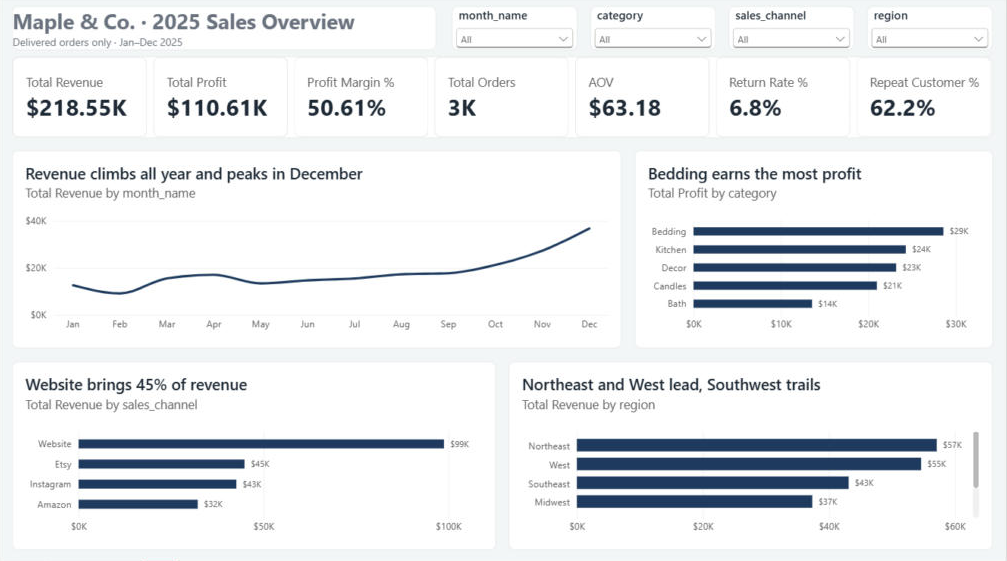

What the dashboard file says about the page in this screenshot:
{"tool":"powerbi","page":{"name":"Overview","canvas":[1280,720],"ordinal":0},"visuals":[{"type":"cardVisual","fields":{"Data":["orders_cleaned.Total Revenue","orders_cleaned.Total Profit","orders_cleaned.Profit Margin %","orders_cleaned.Total Orders","orders_cleaned.AOV","orders_cleaned.Return Rate %","orders_cleaned.Repeat Customer %"]},"box":[16,76,1248,104],"z":0},{"type":"textbox","box":[16,12,540,56],"z":1},{"type":"lineChart","title":"Revenue climbs all year and peaks in December","fields":{"Category":["orders_cleaned.month_name"],"Y":["orders_cleaned.Total Revenue"]},"box":[16,196,776,252],"z":2},{"type":"clusteredBarChart","title":"Bedding earns the most profit","fields":{"Category":["orders_cleaned.category"],"Y":["orders_cleaned.Total Profit"]},"box":[808,196,456,252],"z":3},{"type":"clusteredBarChart","title":"Website brings 45% of revenue","fields":{"Category":["orders_cleaned.sales_channel"],"Y":["orders_cleaned.Total Revenue"]},"box":[16,464,616,240],"z":4},{"type":"clusteredBarChart","title":"Northeast and West lead, Southwest trails","fields":{"Category":["orders_cleaned.region"],"Y":["orders_cleaned.Total Revenue"]},"box":[648,464,616,240],"z":5},{"type":"slicer","fields":{"Values":["orders_cleaned.month_name"]},"box":[576,12,160,56],"z":6},{"type":"slicer","fields":{"Values":["orders_cleaned.category"]},"box":[752,12,160,56],"z":7},{"type":"slicer","fields":{"Values":["orders_cleaned.region"]},"box":[1104,12,160,56],"z":8},{"type":"slicer","fields":{"Values":["orders_cleaned.sales_channel"]},"box":[928,12,160,56],"z":9}]}

Visuals, with their boxes in screenshot pixels (x1, y1, x2, y2), scaled from the page's 1280x720 canvas onto the 1007x561 screenshot:
cardVisual - orders_cleaned.Total Revenue x orders_cleaned.Total Profit: <bbox>13, 59, 994, 140</bbox>
textbox: <bbox>13, 9, 437, 53</bbox>
"Revenue climbs all year and peaks in December" lineChart: <bbox>13, 153, 623, 349</bbox>
"Bedding earns the most profit" clusteredBarChart: <bbox>636, 153, 994, 349</bbox>
"Website brings 45% of revenue" clusteredBarChart: <bbox>13, 362, 497, 549</bbox>
"Northeast and West lead, Southwest trails" clusteredBarChart: <bbox>510, 362, 994, 549</bbox>
slicer - orders_cleaned.month_name: <bbox>453, 9, 579, 53</bbox>
slicer - orders_cleaned.category: <bbox>592, 9, 717, 53</bbox>
slicer - orders_cleaned.region: <bbox>869, 9, 994, 53</bbox>
slicer - orders_cleaned.sales_channel: <bbox>730, 9, 856, 53</bbox>
